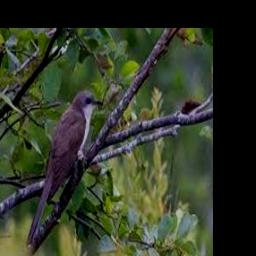Cuckoo: (26, 91, 102, 246)
